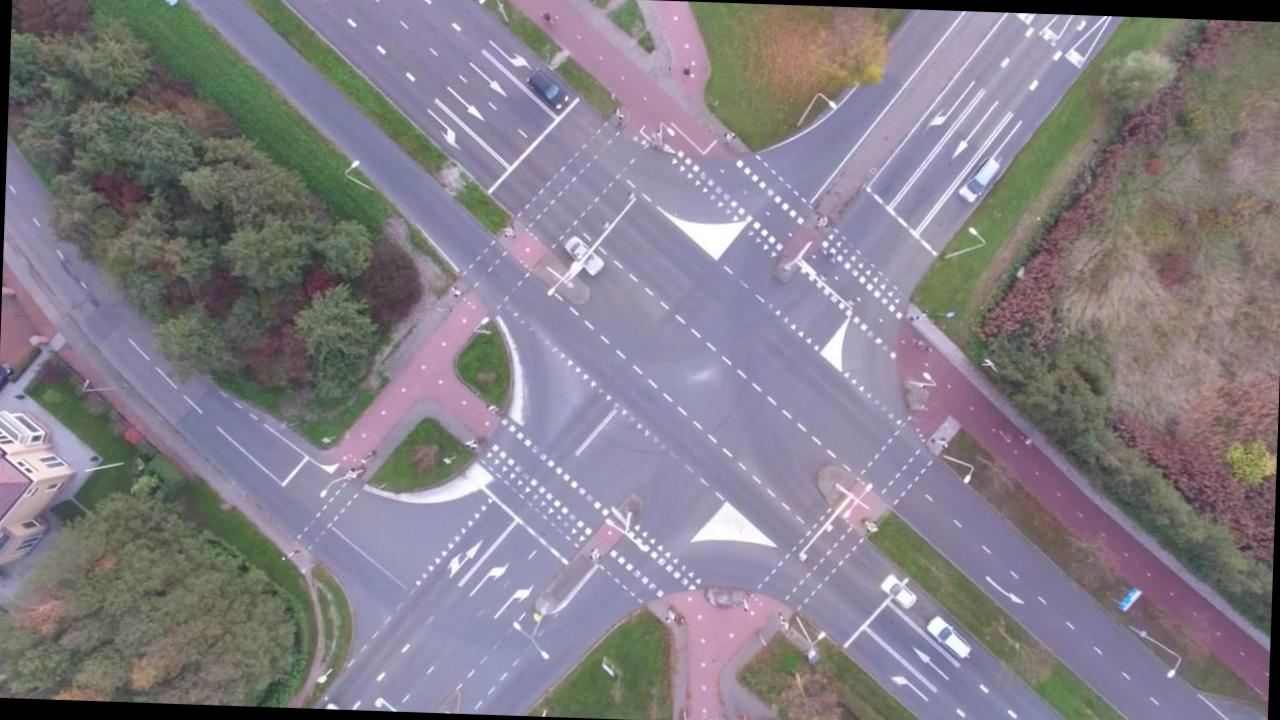vehicle: (956, 152, 1004, 206), (926, 613, 974, 662), (562, 234, 606, 278), (528, 69, 571, 108), (880, 570, 920, 610)
